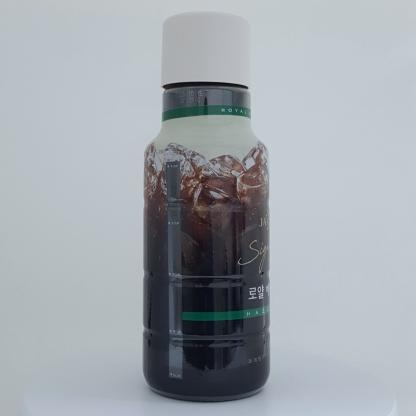--------1-1L: (142, 11, 270, 402)
